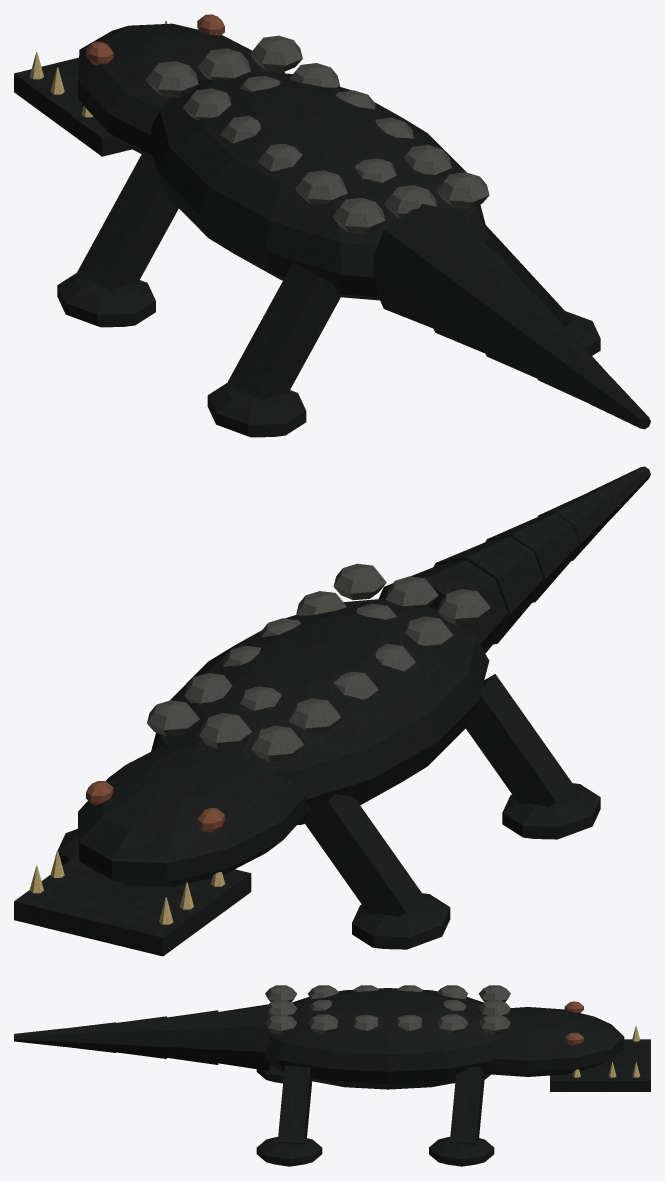
Rendered from SK_Boss_jaw_of_the_mire_silhouette.gltf.
The picture shows the model from 3 angles, top to bottom: view 1: azimuth 30°, elevation 25°; view 2: azimuth 150°, elevation 25°; view 3: azimuth 270°, elevation 25°; orthographic projection. The views are drawn at different scales.
Visible parts, largest first — view 1: root, armored_tail, lower_jaw; view 2: root, armored_tail, lower_jaw; view 3: root, armored_tail, lower_jaw.
Part boxes in pixels (box(x1,y1,x2,y2)): root: box(57, 14, 600, 437); armored_tail: box(372, 203, 650, 429); lower_jaw: box(14, 20, 167, 156); root: box(57, 563, 600, 949); armored_tail: box(378, 466, 650, 653); lower_jaw: box(14, 850, 251, 956); root: box(256, 985, 624, 1166); armored_tail: box(14, 1004, 269, 1070); lower_jaw: box(550, 1026, 650, 1091).
Size of the model in its own units: 2.1 by 1.12 by 5.37.
Materials: 4 (4 with a texture image).
